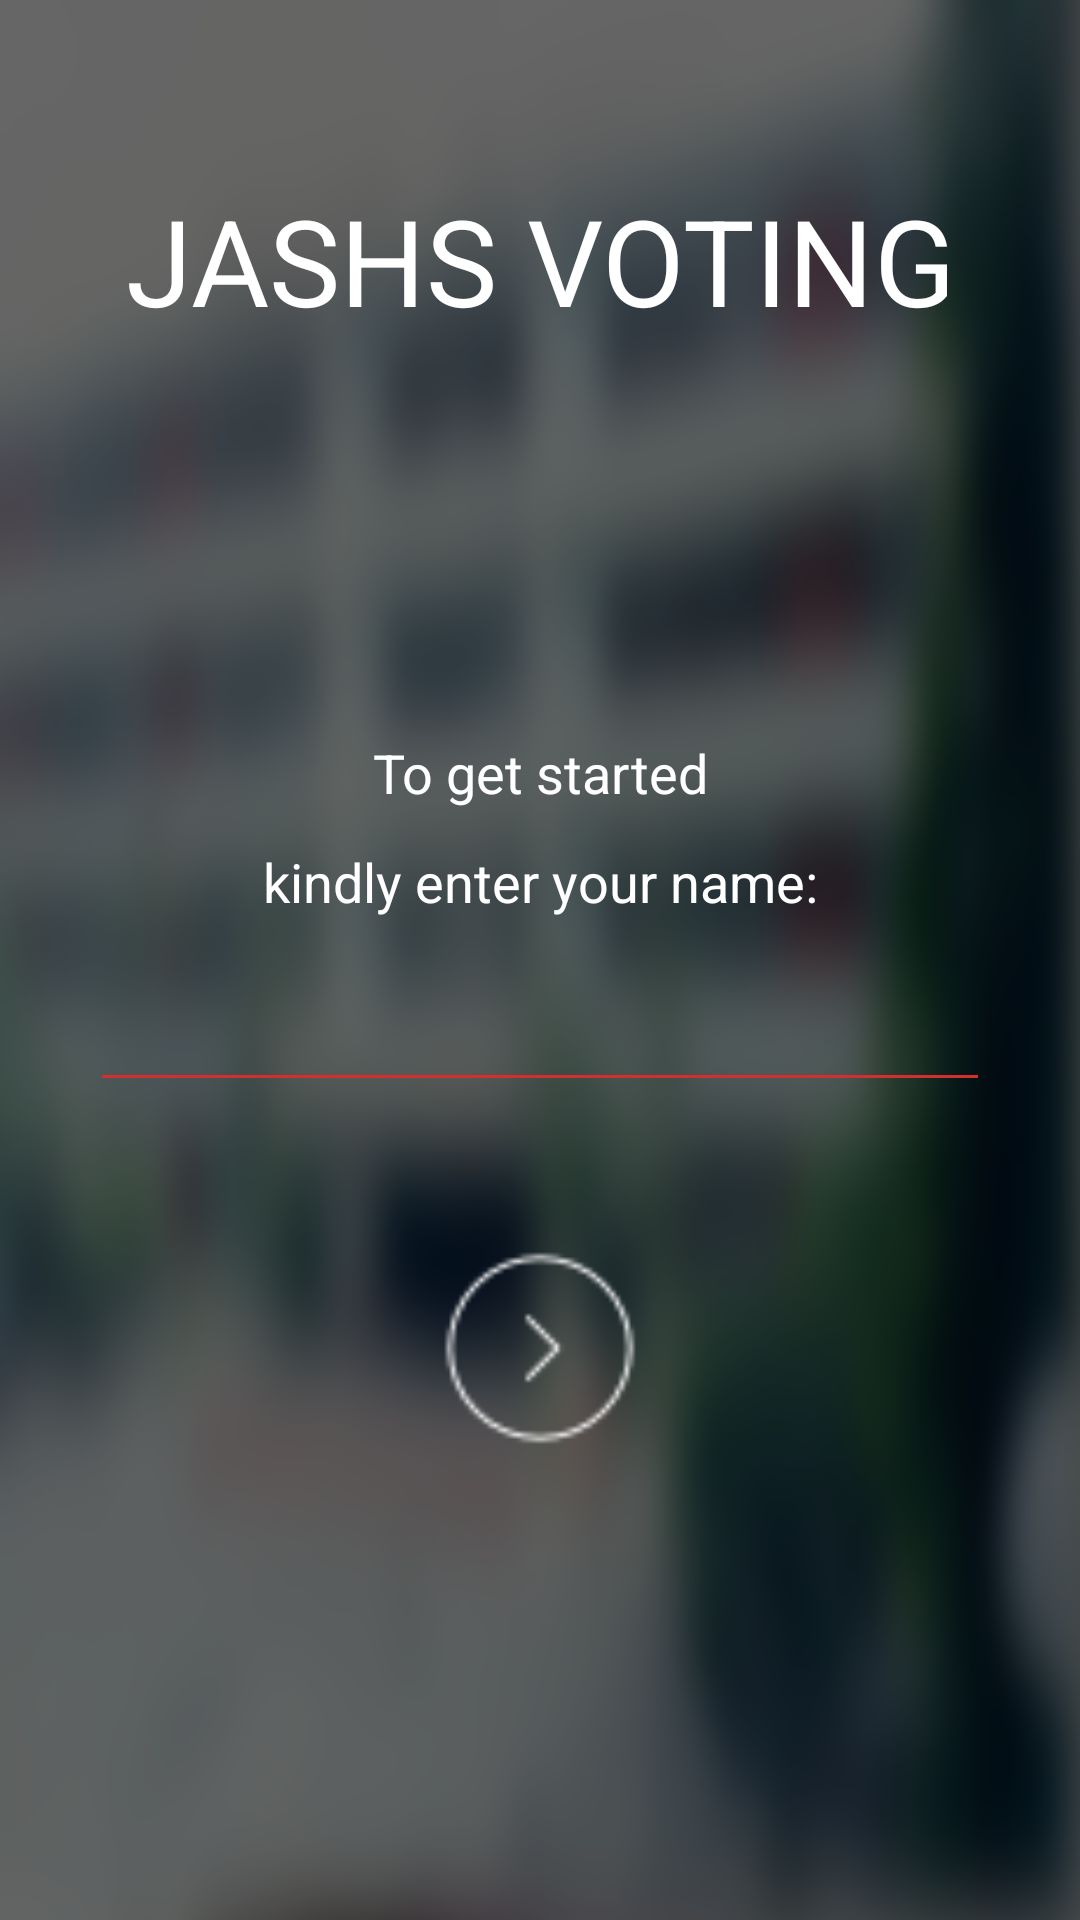

Point at icon controls on the screen. Image size 1080 x 1920, points as (x=x, y=y).
enter: (x=540, y=1348)
